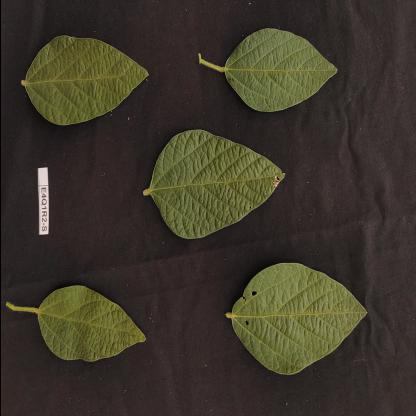label: (25, 166, 60, 244)
leaflets: (134, 120, 288, 254), (221, 258, 378, 378), (17, 30, 151, 140), (200, 27, 345, 117), (28, 275, 148, 376)
